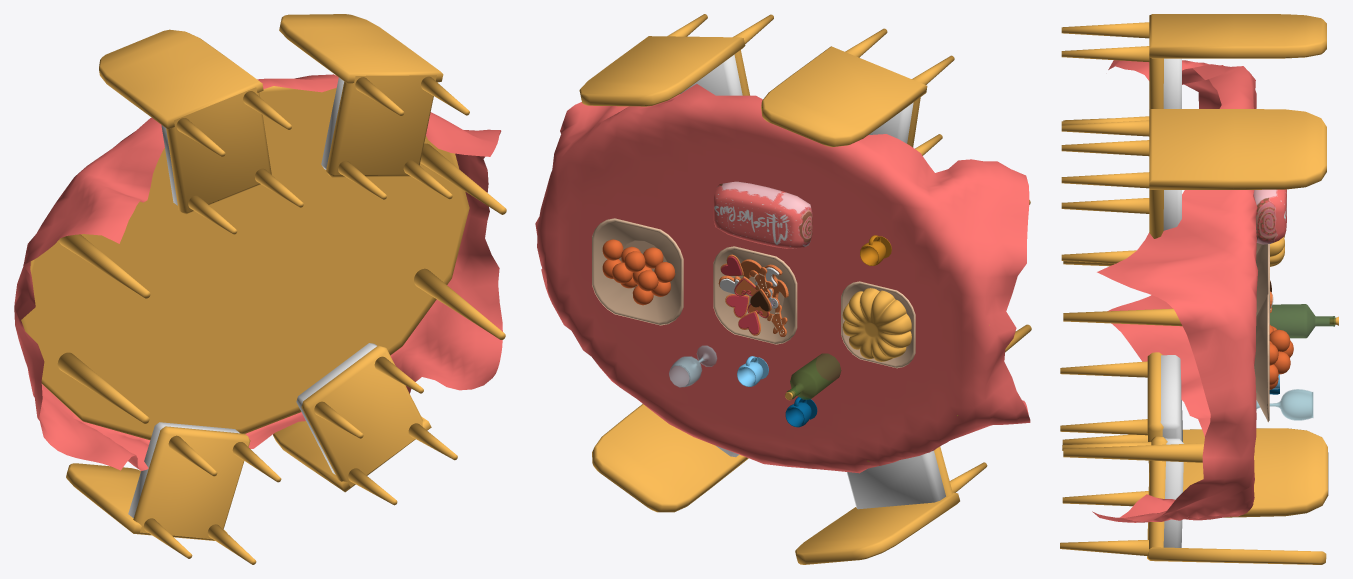
The model's file is Dining room.fbx.
The picture shows the model from 3 angles, left to right: view 1: azimuth 30°, elevation 25°; view 2: azimuth 150°, elevation 25°; view 3: azimuth 270°, elevation 25°; orthographic projection. The views are drawn at different scales.
Parts seen in each view (by area): view 1: Circle.009; view 2: Circle.009; view 3: Circle.009.
Part boxes in pixels (bbox=[...]): Circle.009: bbox=[14, 14, 506, 564]; Circle.009: bbox=[535, 14, 1031, 564]; Circle.009: bbox=[1060, 14, 1338, 564].
Size of the model in its own units: 2.35 by 2.12 by 1.09.
20 materials, 2 textured.
